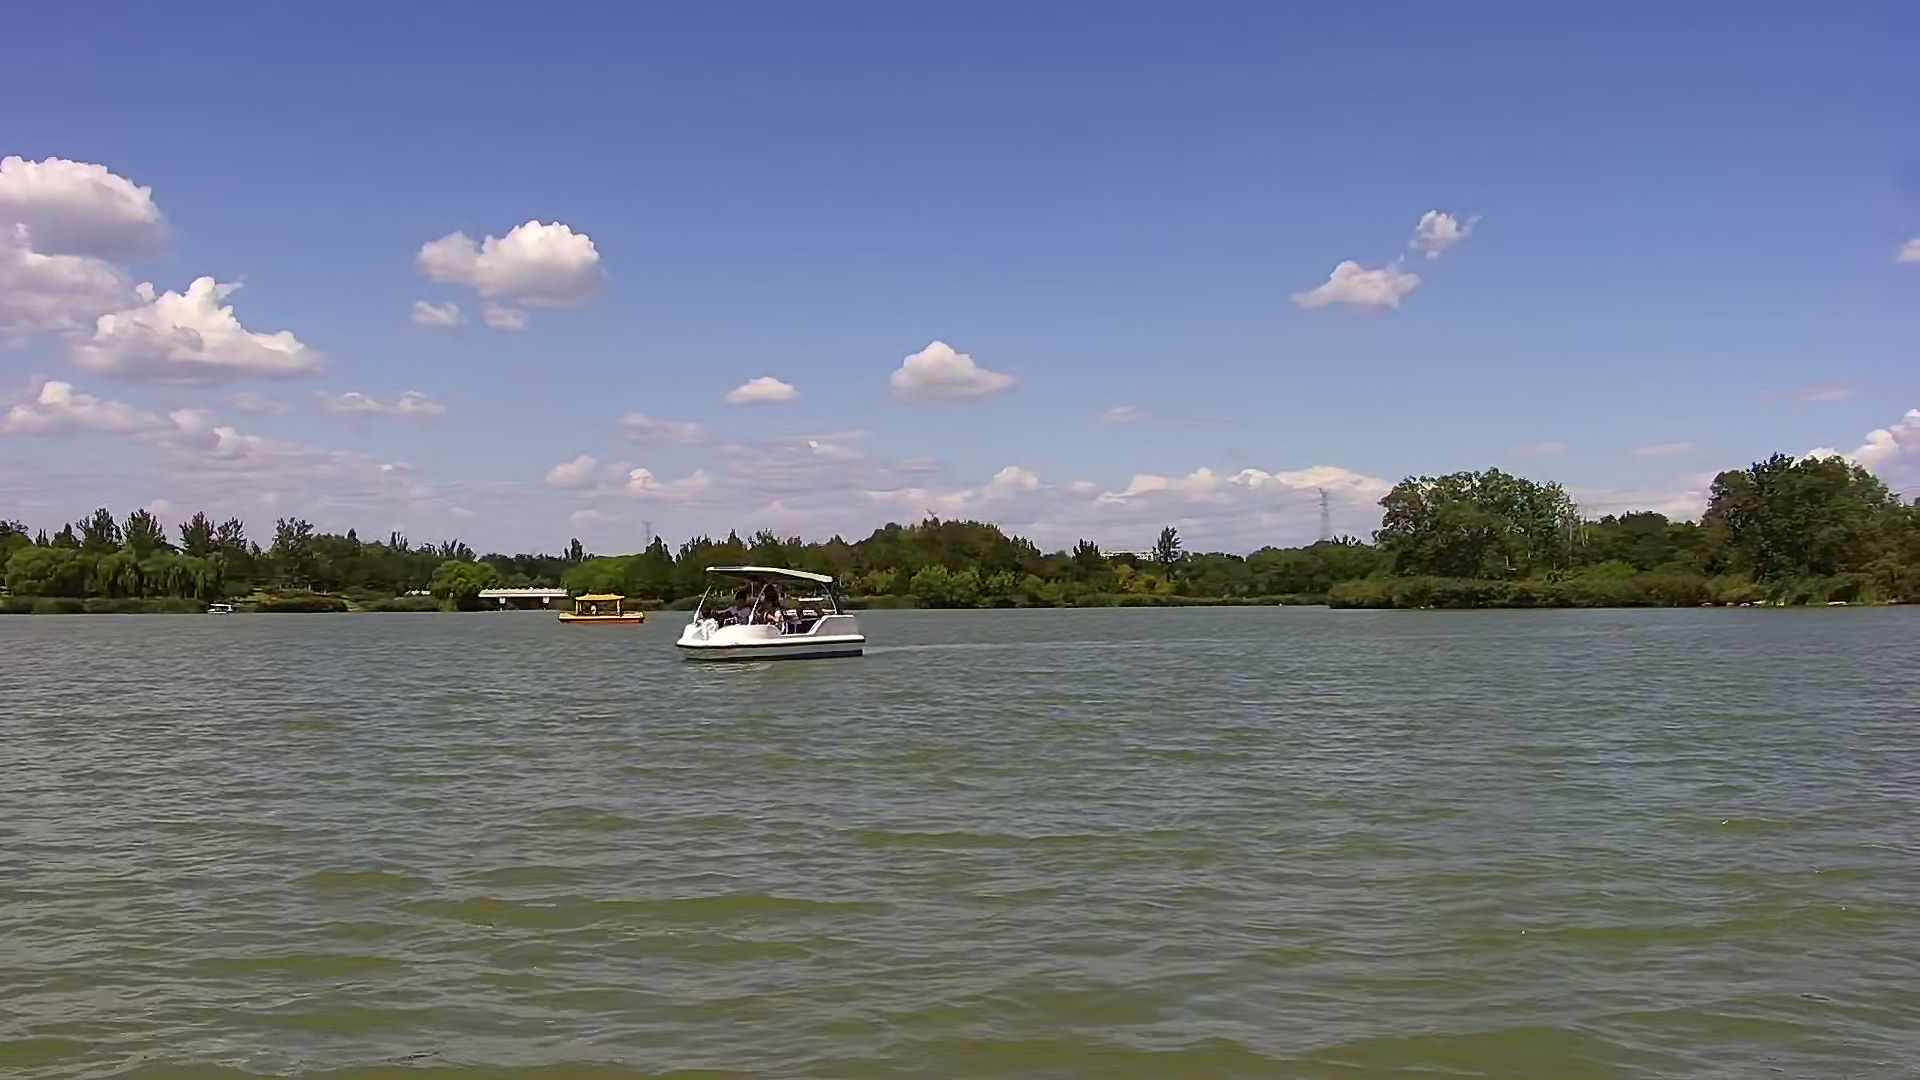boat: (676, 560, 858, 659), (558, 589, 645, 628)
bridge: (477, 585, 563, 605)
